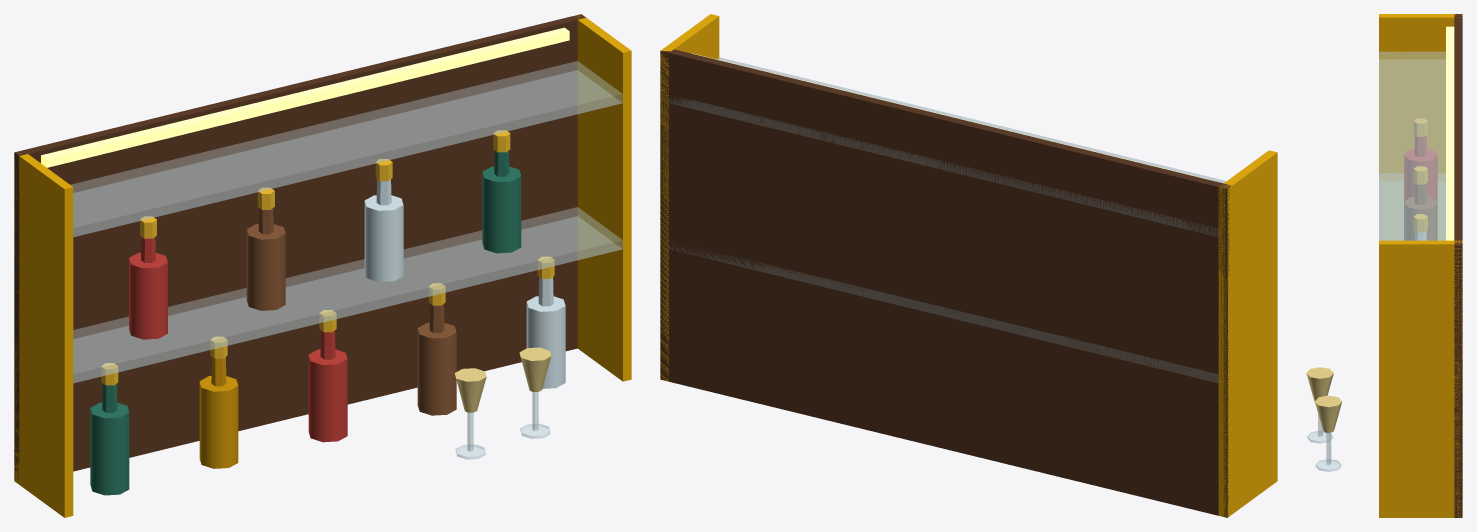
The model's file is station_special_ausstattung_2_3.glb.
3 renders of one model, left to right at view 1: azimuth 30°, elevation 25°; view 2: azimuth 150°, elevation 25°; view 3: azimuth 270°, elevation 25°, orthographic. The views are drawn at different scales.
Visible parts, largest first — view 1: station_special_ausstattung_2_3; view 2: station_special_ausstattung_2_3; view 3: station_special_ausstattung_2_3.
Part boxes in pixels (<box>): station_special_ausstattung_2_3: <box>14,14,631,517</box>; station_special_ausstattung_2_3: <box>660,14,1277,517</box>; station_special_ausstattung_2_3: <box>1306,14,1462,517</box>.
Bounding box in the file's own units: 1.3 × 0.72 × 0.373.
